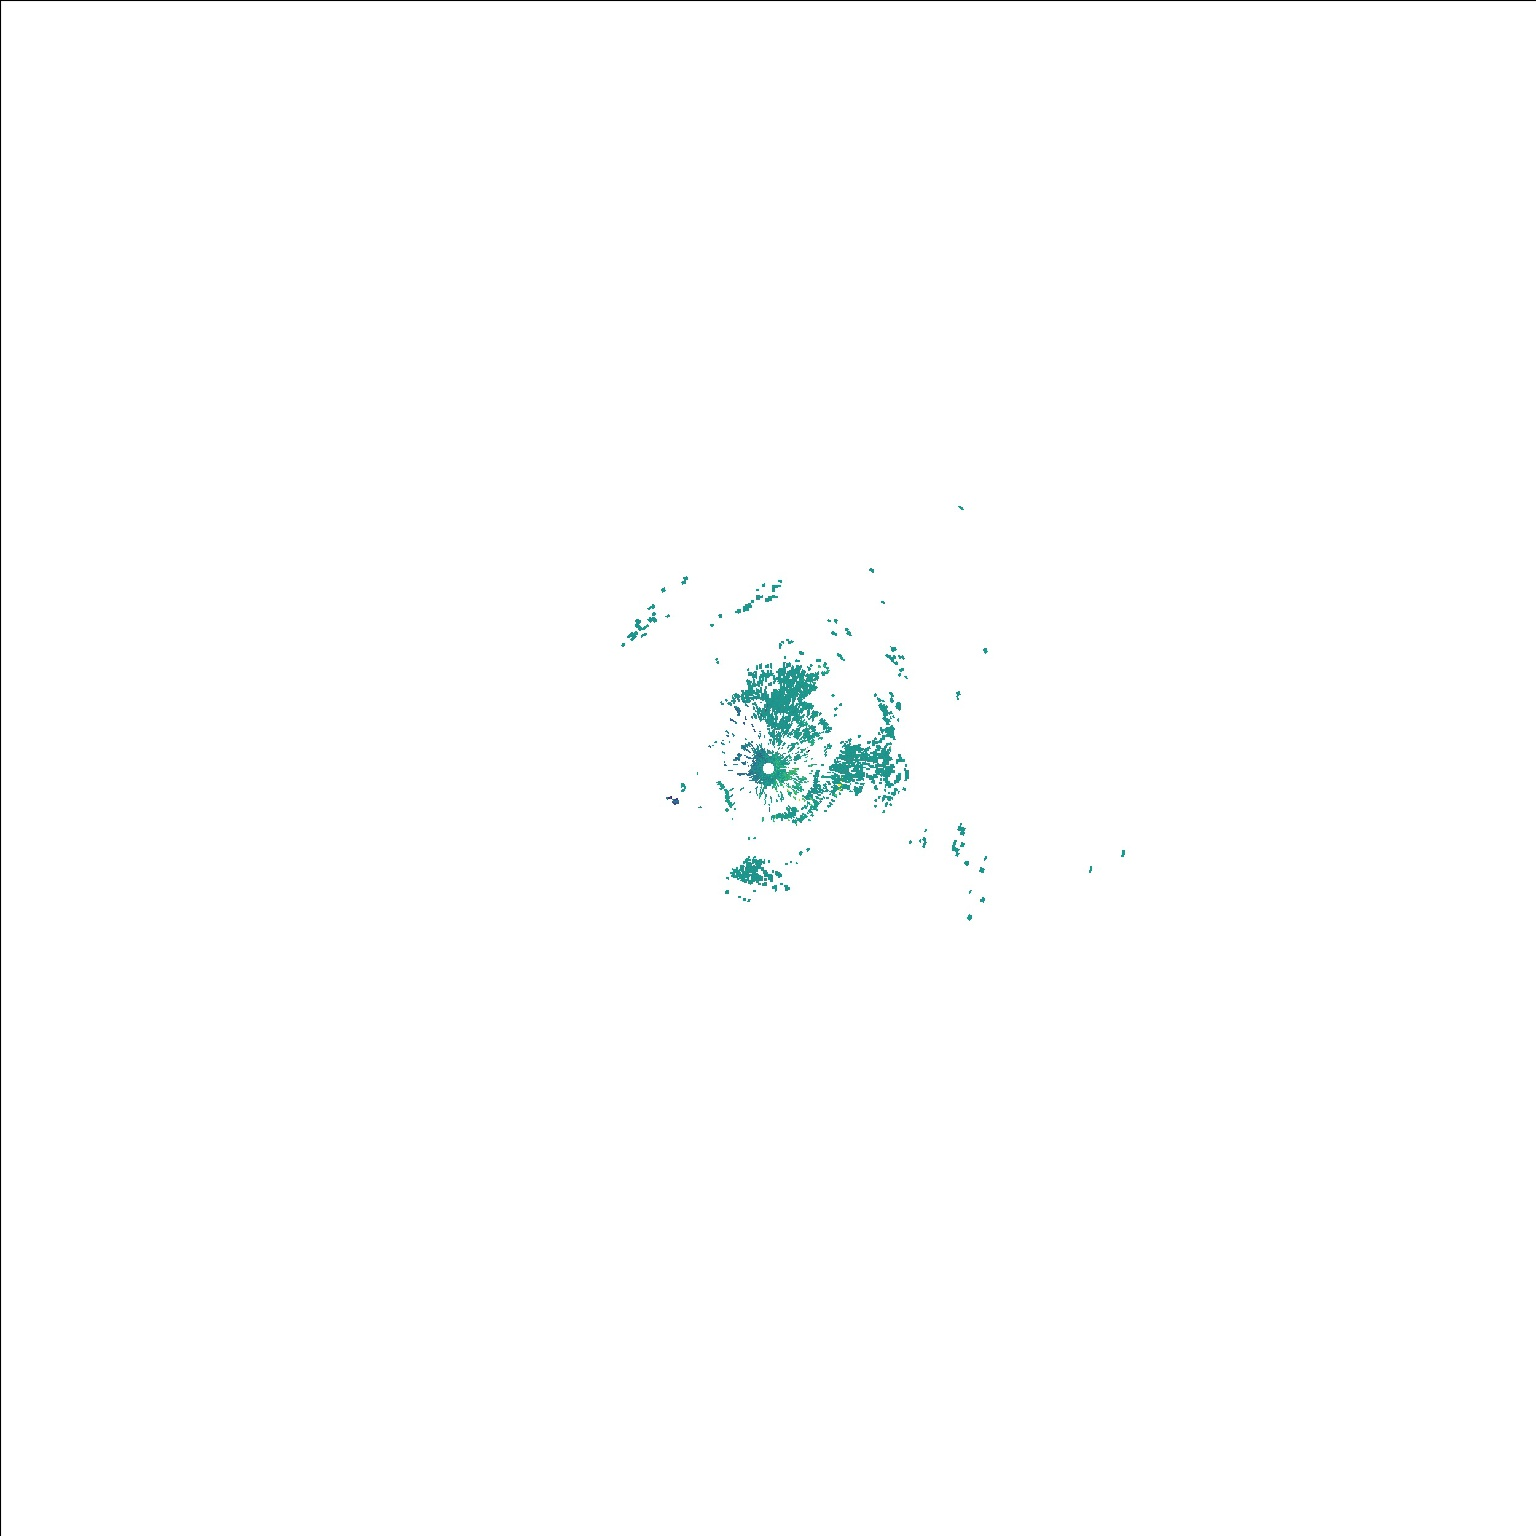fall: (663, 791, 681, 813)
